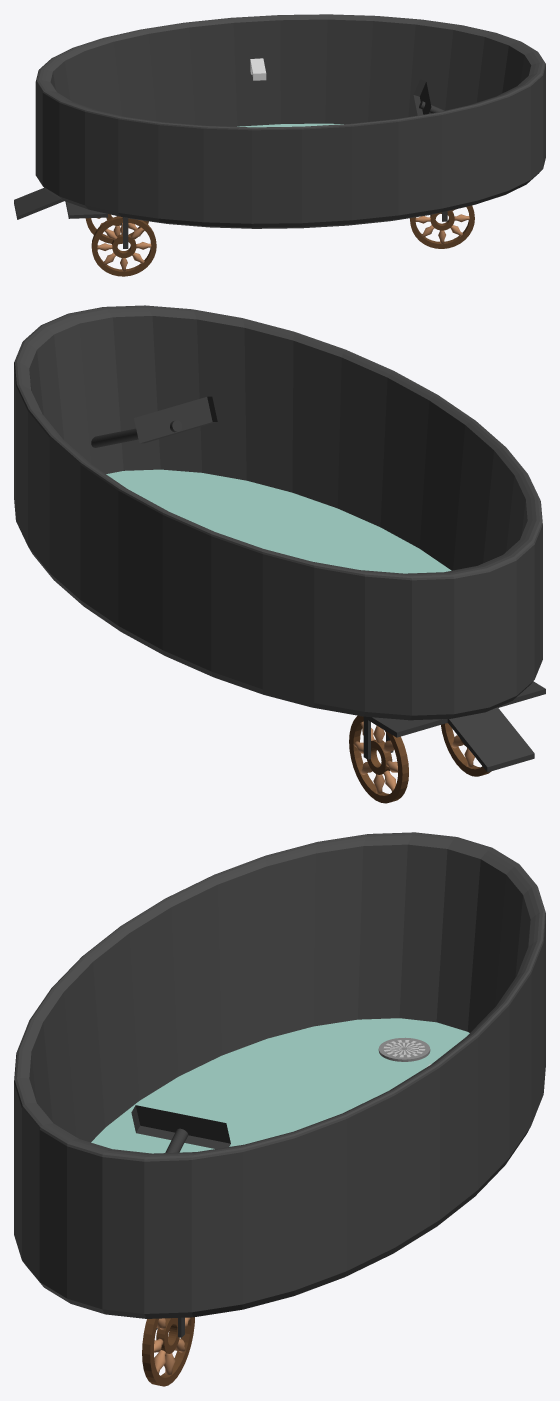
File: bathwagon.gltf
3 views of the same model, one above another, from view 1: azimuth 30°, elevation 25°; view 2: azimuth 150°, elevation 25°; view 3: azimuth 270°, elevation 25° (orthographic). The views are drawn at different scales.
Visible parts, largest first — view 1: Cylinder.002; view 2: Cylinder.002; view 3: Cylinder.002.
Boxes of the visible parts, bbox=[...] form: Cylinder.002: bbox=[14, 14, 545, 276]; Cylinder.002: bbox=[14, 305, 545, 803]; Cylinder.002: bbox=[14, 832, 545, 1386].
Bounding box in the file's own units: 11.39 × 4.55 × 7.47.
